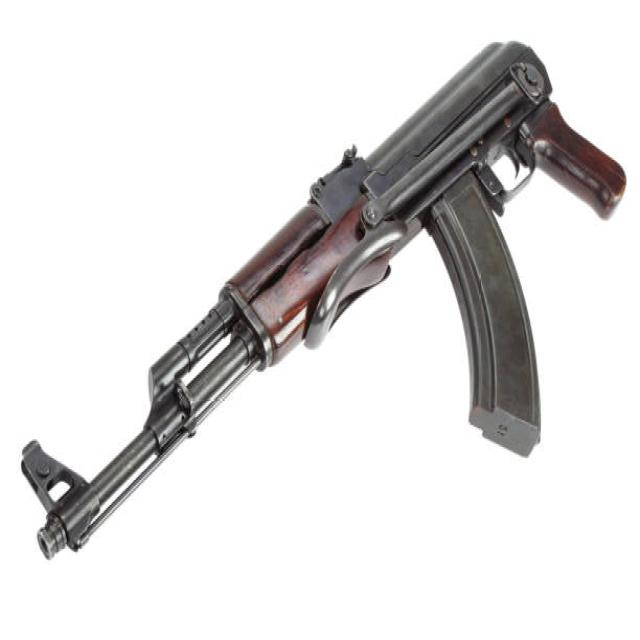rifle: (12, 29, 632, 576)
